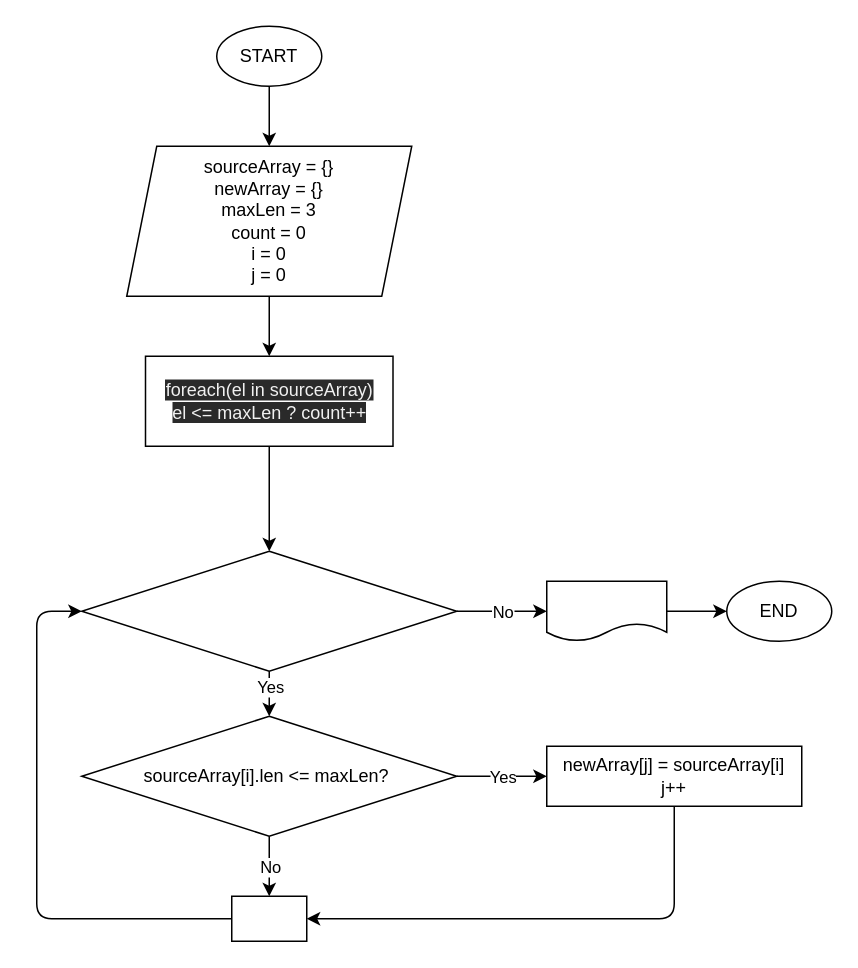
This 858x968 diagram has some shape labels left out. The box of each missing label's shape, as (x1, y1, x2, y2) in pixels:
i < sourceArray[i].len ?: (80, 550, 457, 671)
i++: (230, 895, 307, 941)
newArray: (545, 580, 667, 641)
